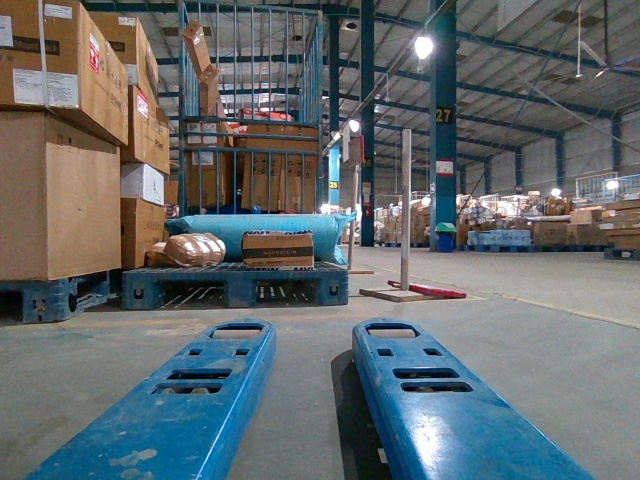block: (121, 270, 159, 310), (318, 267, 345, 306), (229, 275, 252, 310)
front: (123, 270, 348, 306)
hole pallet: (153, 276, 228, 306), (246, 276, 323, 302)
